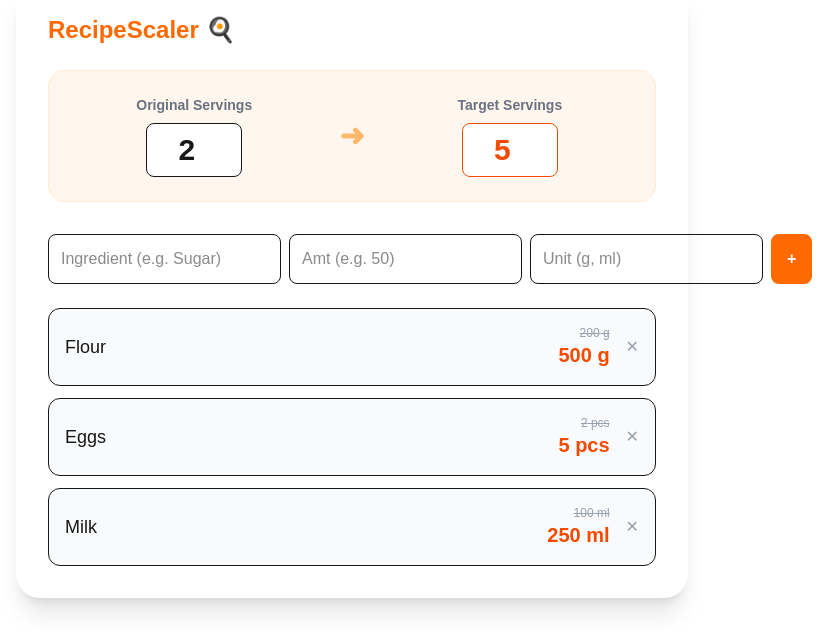
Test: Recipe Scaler Micro-App › Scaler Component & Scaling Calculations › deletes an ingredient when delete button is clicked
Expected: the text "Flour" is shown, [65,333,106,361]
// Delete first ingredient (Flour)
Click the button "✕" in the row of "200" at (632, 347), box [626,335,639,359]
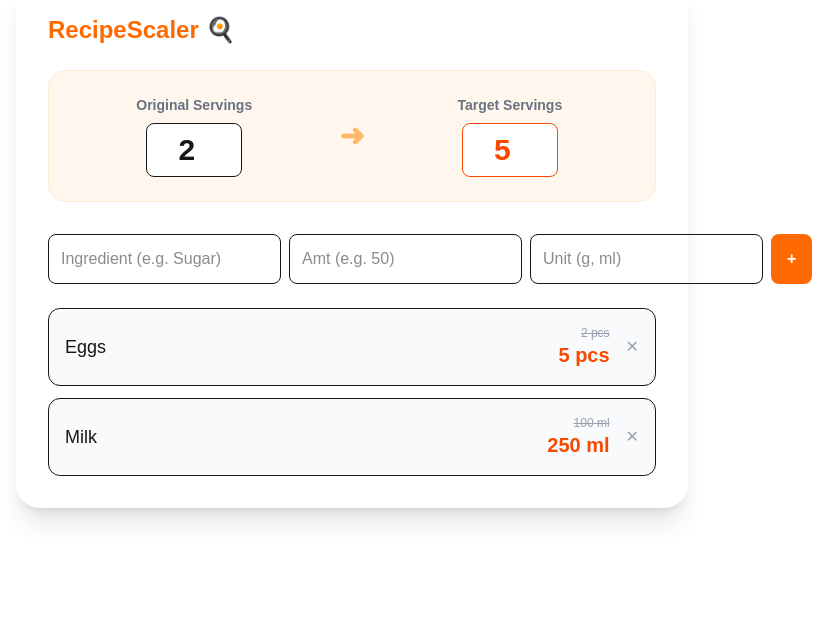
Expected: the text "Eggs" is shown, [65,333,106,361]
Now the text "Flour" is gone
